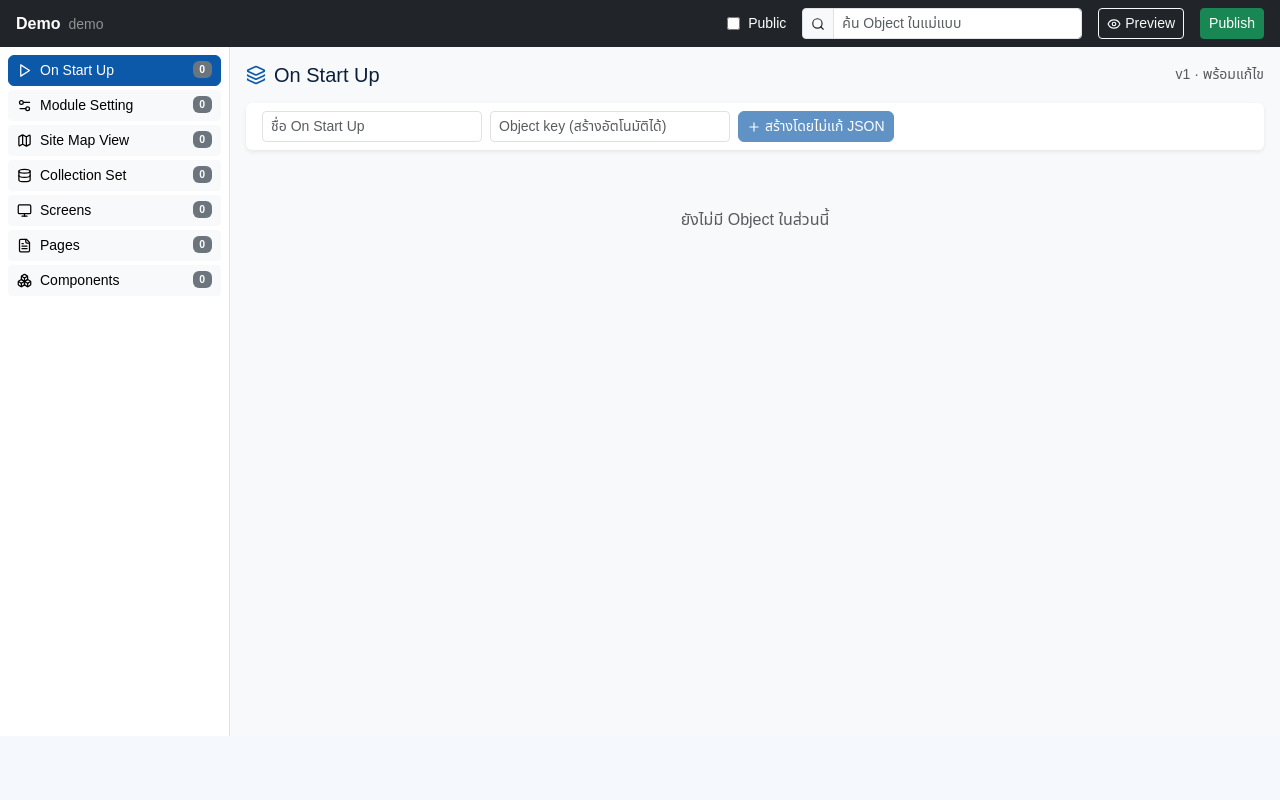
Scenario: Template Studio browser interactions › creates an Object through the Studio API flow without JSON editing
Type "Application startup" into the field with placeholder "ชื่อ On Start Up" at (372, 126), box 262,111 -> 482,142
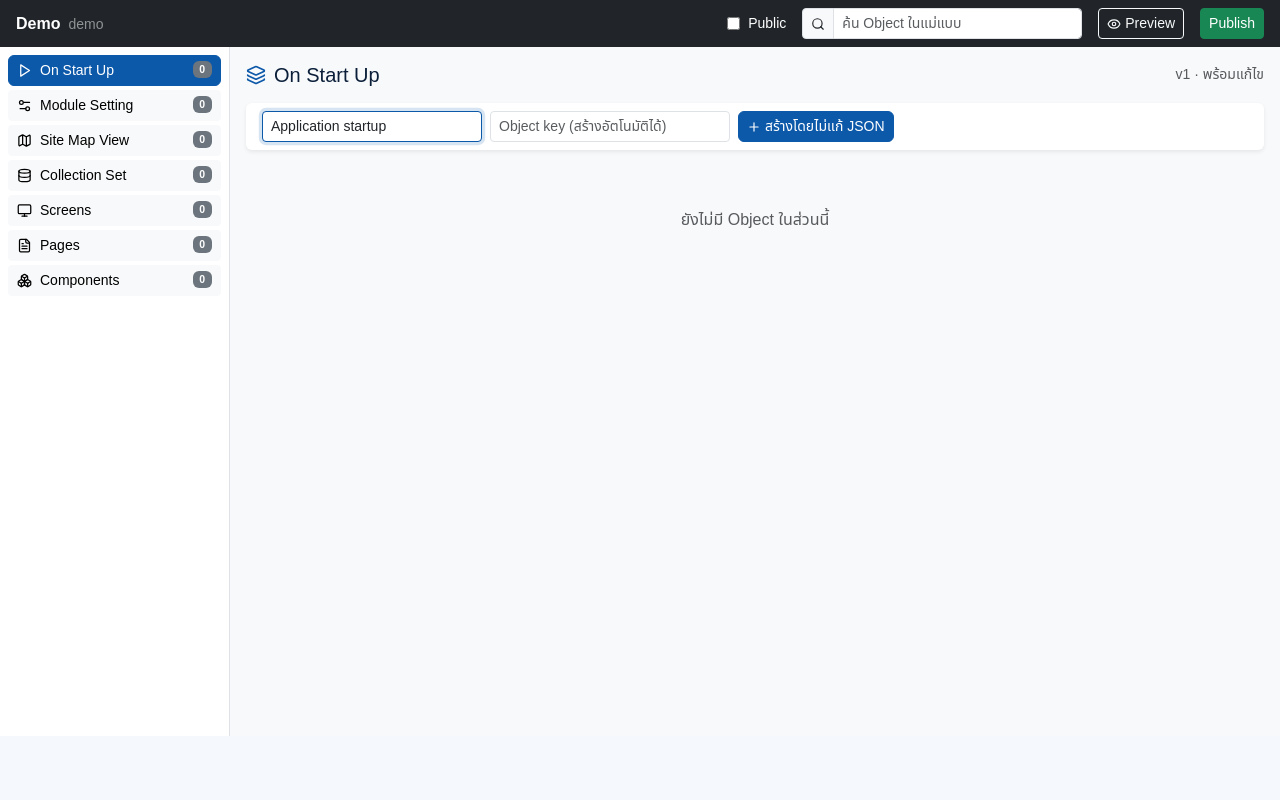
Click the button "สร้างโดยไม่แก้ JSON" at (816, 126), box 738,111 -> 894,142
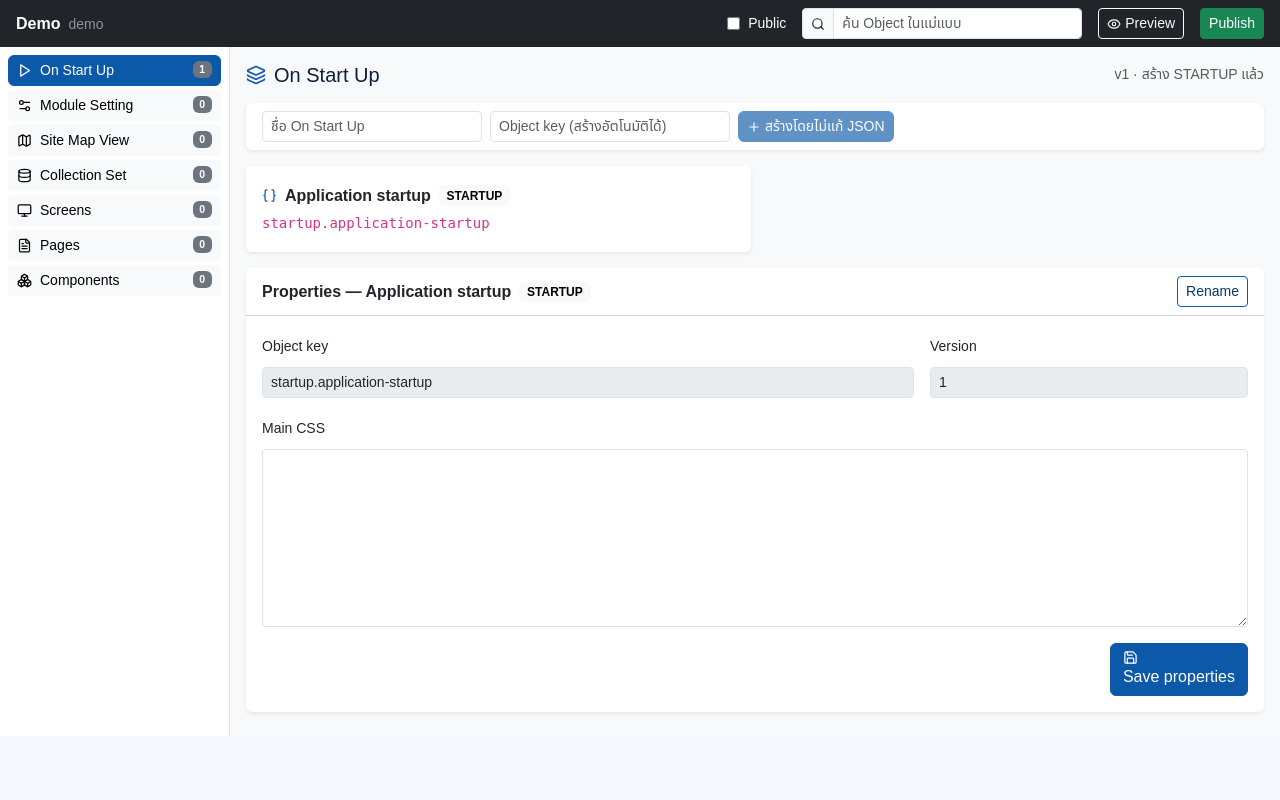
Expected: the text "Application startup" is shown, 285,182 -> 431,209
